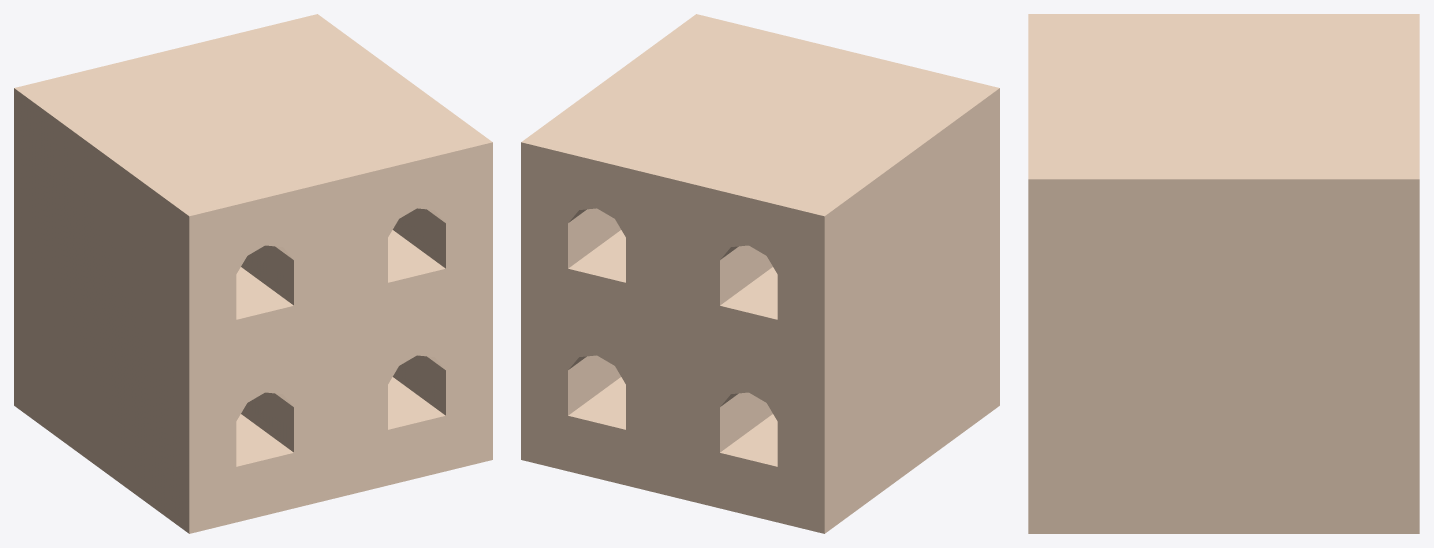
File: Abstract_Castle_Block_Single_QuadWindowSmall_Cream_01.fbx
3 renders of one model, left to right at view 1: azimuth 30°, elevation 25°; view 2: azimuth 150°, elevation 25°; view 3: azimuth 270°, elevation 25°, orthographic. The views are drawn at different scales.
Parts seen in each view (by area): view 1: Model; view 2: Model; view 3: Model.
Part boxes in pixels (x1,y1,x2,y2): Model: [14, 14, 492, 533]; Model: [521, 14, 999, 533]; Model: [1028, 14, 1419, 533].
Bounding box in the file's own units: 1000 × 1000 × 1000.
